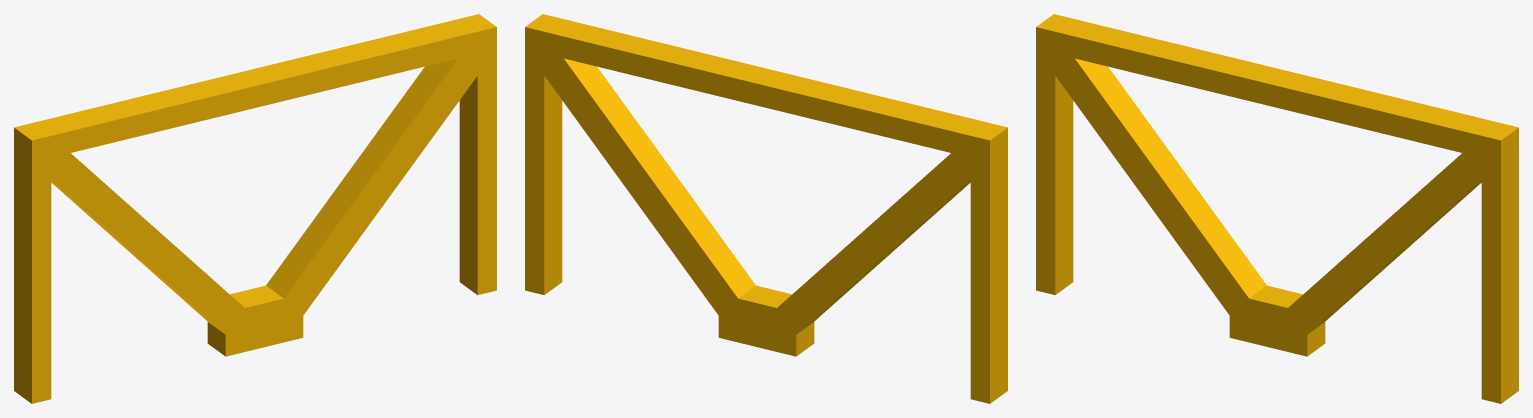
The model's file is Prop_Industrial_Crane_Gantry_Rail_02.FBX.
The picture shows the model from 3 angles, left to right: view 1: azimuth 30°, elevation 25°; view 2: azimuth 150°, elevation 25°; view 3: azimuth 330°, elevation 25°; orthographic projection.
Visible parts, largest first — view 1: Prop_Industrial_Crane_Gantry_Rail_02; view 2: Prop_Industrial_Crane_Gantry_Rail_02; view 3: Prop_Industrial_Crane_Gantry_Rail_02.
Part boxes in pixels (<box>): Prop_Industrial_Crane_Gantry_Rail_02: <box>14,14,496,403</box>; Prop_Industrial_Crane_Gantry_Rail_02: <box>525,14,1007,403</box>; Prop_Industrial_Crane_Gantry_Rail_02: <box>1036,14,1518,403</box>.
Size of the model in its own units: 1964 by 1063 by 131.
